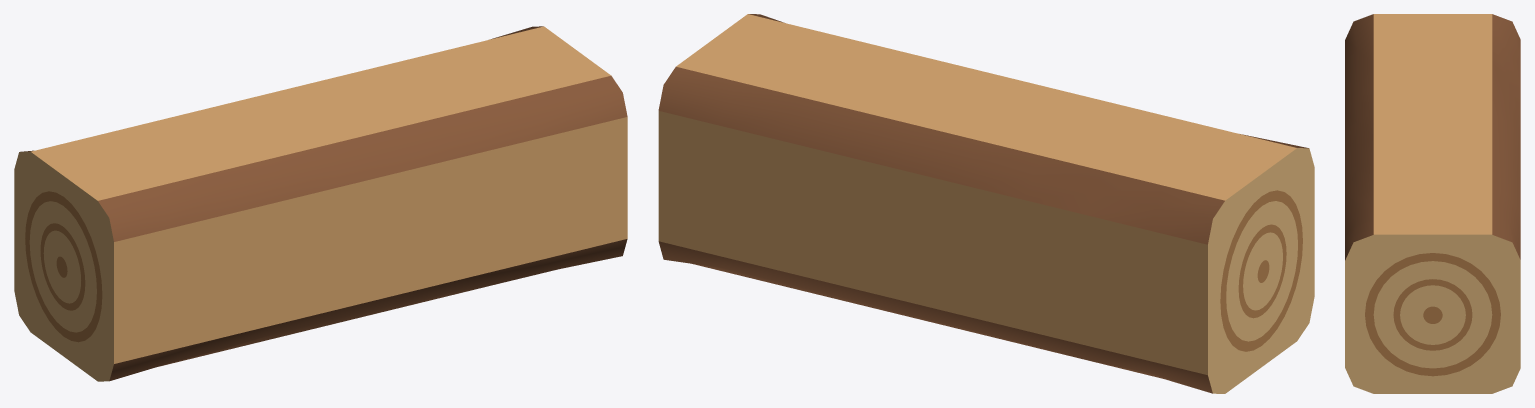
The model's file is log.glb.
3 views of the same model, side by side, from view 1: azimuth 30°, elevation 25°; view 2: azimuth 150°, elevation 25°; view 3: azimuth 270°, elevation 25° (orthographic). The views are drawn at different scales.
Parts seen in each view (by area): view 1: Log; view 2: Log; view 3: Log.
Part boxes in pixels (bbox=[...]): Log: bbox=[14, 26, 627, 381]; Log: bbox=[658, 14, 1314, 393]; Log: bbox=[1345, 14, 1520, 393].
Size of the model in its own units: 1.2 by 0.4 by 0.4001.
